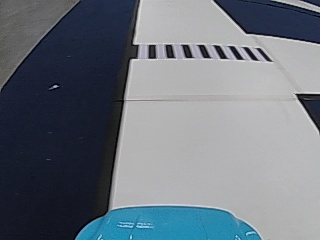CrossWalk: (131, 42, 268, 61)
